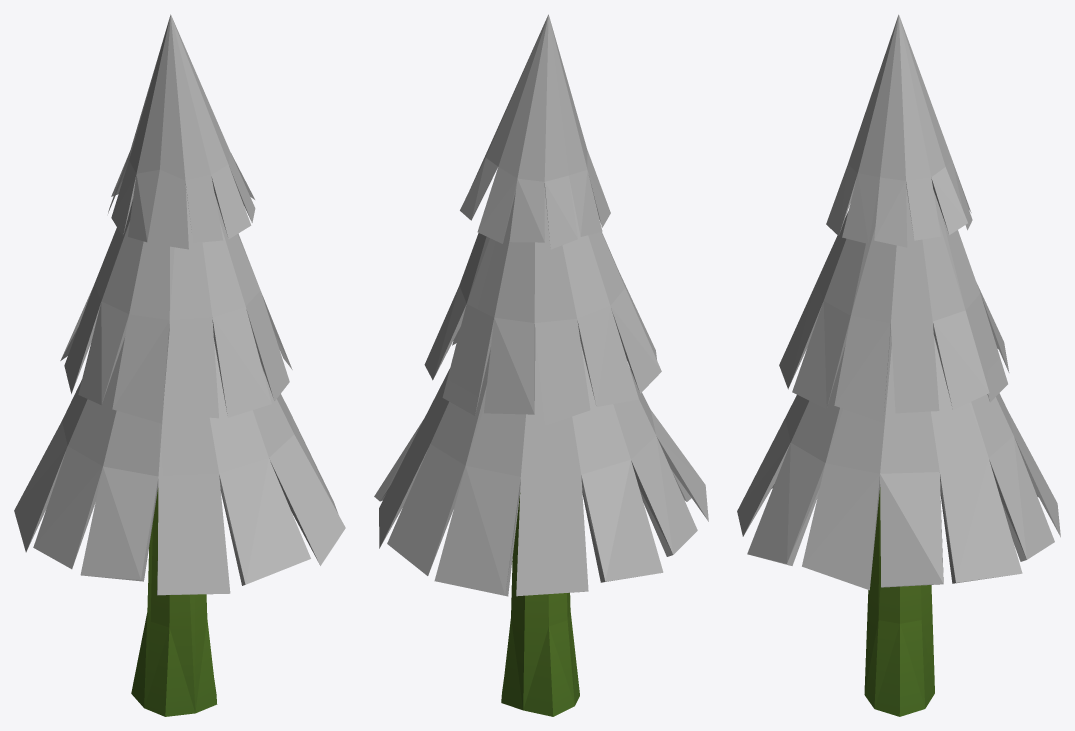
File: Tree_21.fbx
The picture shows the model from 3 angles, left to right: view 1: azimuth 30°, elevation 25°; view 2: azimuth 150°, elevation 25°; view 3: azimuth 270°, elevation 25°; orthographic projection.
Visible parts, largest first — view 1: Tree_21; view 2: Tree_21; view 3: Tree_21.
Boxes of the visible parts, x1,y1,x2,y2 form: Tree_21: (14,14,345,716); Tree_21: (374,14,708,716); Tree_21: (737,14,1060,716).
Bounding box in the file's own units: 2.15 × 5 × 2.16.
